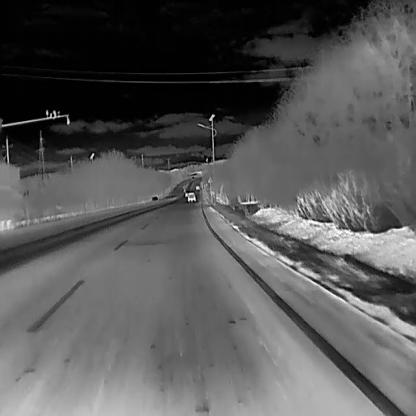car: (186, 191, 195, 201), (151, 196, 158, 201)
